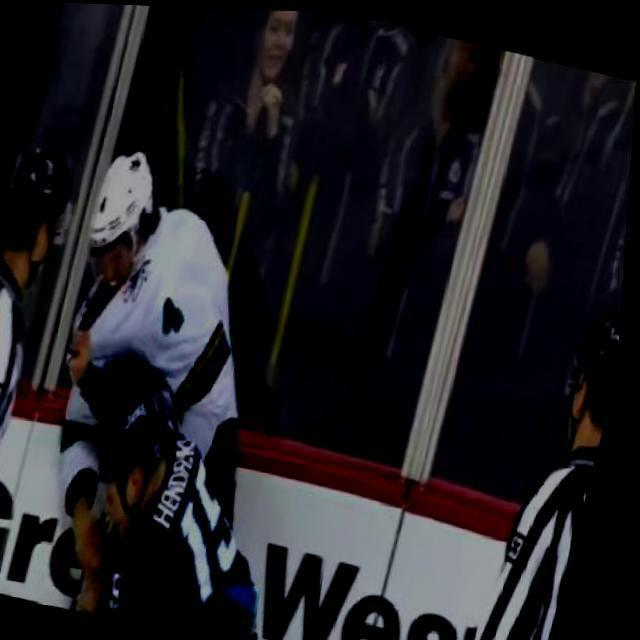fight: (0, 142, 406, 640)
